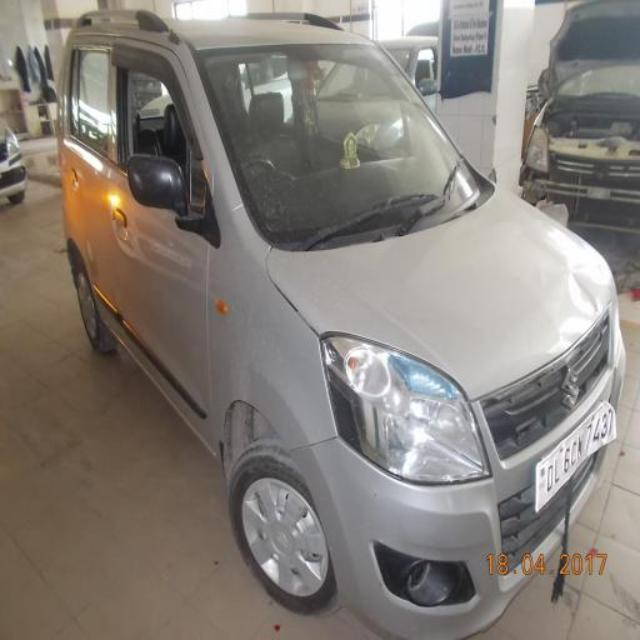dent: (566, 260, 607, 322)
